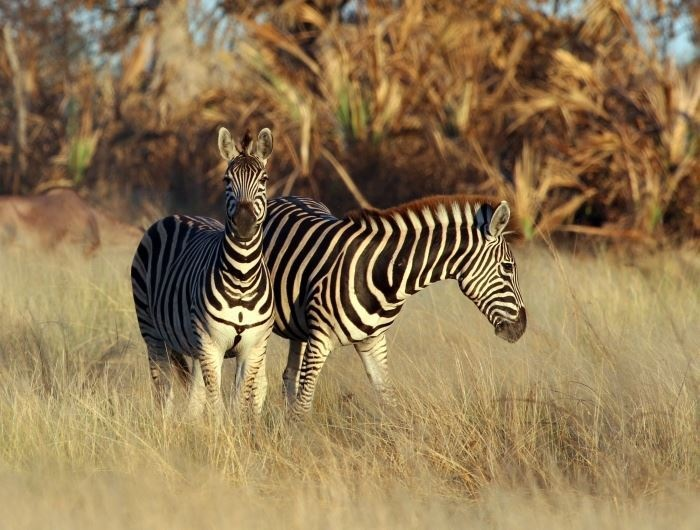zebra: (251, 182, 528, 417), (126, 125, 275, 432)
